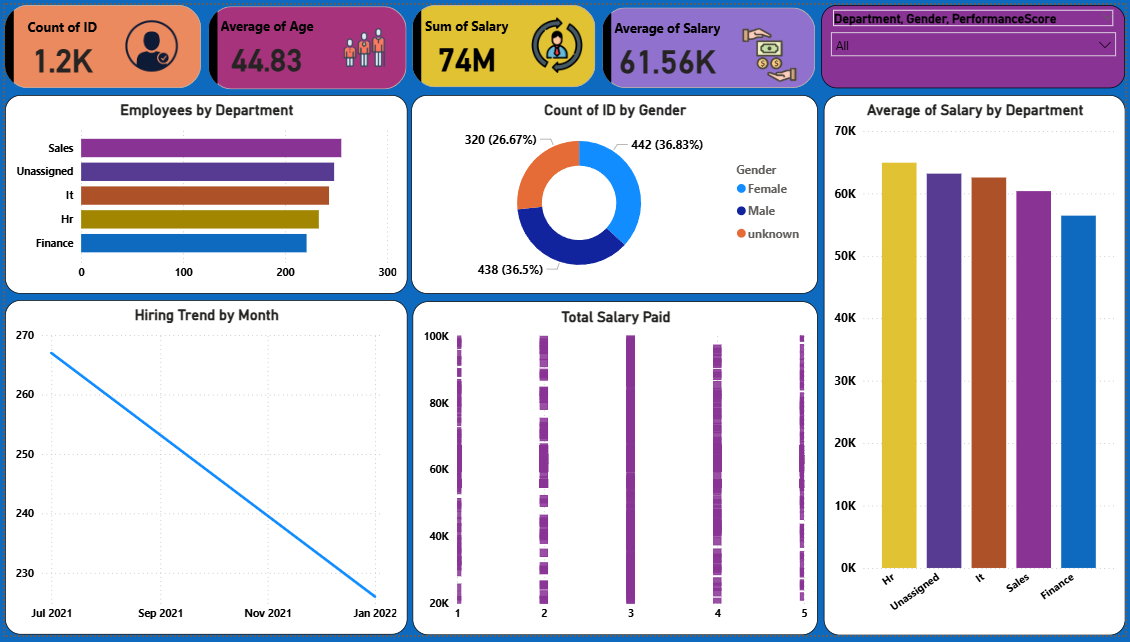

This screenshot's page, from the dashboard's own definition file:
{"tool":"powerbi","page":{"name":"Page 1","canvas":[1280,720],"ordinal":0},"visuals":[{"type":"cardVisual","fields":{"Data":["Avg(Sheet1.Salary)"]},"box":[682.3,2.4,259.2,92.9],"z":0},{"type":"cardVisual","fields":{"Data":["Avg(Sheet1.Age)"]},"box":[232.3,1.2,242.1,95.4],"z":1000},{"type":"cardVisual","fields":{"Data":["CountNonNull(Sheet1.ID)"]},"box":[0,0,240.9,95.4],"z":2000},{"type":"clusteredBarChart","title":"Employees by Department","fields":{"Category":["Sheet1.Department"],"Y":["CountNonNull(Sheet1.ID)"]},"box":[0,102.7,459.8,227.4],"z":3000},{"type":"donutChart","fields":{"Category":["Sheet1.Gender"],"Y":["CountNonNull(Sheet1.ID)"]},"box":[464.7,102.7,464.7,227.4],"z":4000},{"type":"scatterChart","title":"Total Salary Paid","fields":{"Category":["Sheet1.ID"],"X":["Sum(Sheet1.PerformanceScore)"],"Y":["Sum(Sheet1.Salary)"]},"box":[465.9,338.7,463.5,381.5],"z":5000},{"type":"lineChart","title":"Hiring Trend by Month","fields":{"Y":["CountNonNull(Sheet1.ID)"],"Category":["Sheet1.JoinDate.Variation.Date Hierarchy.Year","Sheet1.JoinDate.Variation.Date Hierarchy.Month"]},"box":[0,337.5,459.8,382.7],"z":6000},{"type":"slicer","fields":{"Values":["Sheet1.Department","Sheet1.Gender","Sheet1.PerformanceScore"]},"box":[933,0,347.3,95.4],"z":7000},{"type":"cardVisual","fields":{"Data":["Sum(Sheet1.Salary)"]},"box":[465.9,0,225,94.2],"z":8000},{"type":"clusteredColumnChart","fields":{"Y":["Avg(Sheet1.Salary)"],"Category":["Sheet1.Department"]},"box":[935.5,102.7,344.8,617.5],"z":9000}]}

Visuals, with their boxes in screenshot pixels (x1, y1, x2, y2), scaled from the page's 1280x720 canvas onto the 1130x642 screenshot:
cardVisual - Avg(Sheet1.Salary): (602, 2, 831, 85)
cardVisual - Avg(Sheet1.Age): (205, 1, 419, 86)
cardVisual - CountNonNull(Sheet1.ID): (0, 0, 213, 85)
"Employees by Department" clusteredBarChart: (0, 92, 406, 294)
donutChart - Sheet1.Gender x CountNonNull(Sheet1.ID): (410, 92, 820, 294)
"Total Salary Paid" scatterChart: (411, 302, 820, 641)
"Hiring Trend by Month" lineChart: (0, 301, 406, 641)
slicer - Sheet1.Department x Sheet1.Gender: (824, 0, 1129, 85)
cardVisual - Sum(Sheet1.Salary): (411, 0, 610, 84)
clusteredColumnChart - Avg(Sheet1.Salary) x Sheet1.Department: (826, 92, 1129, 641)
